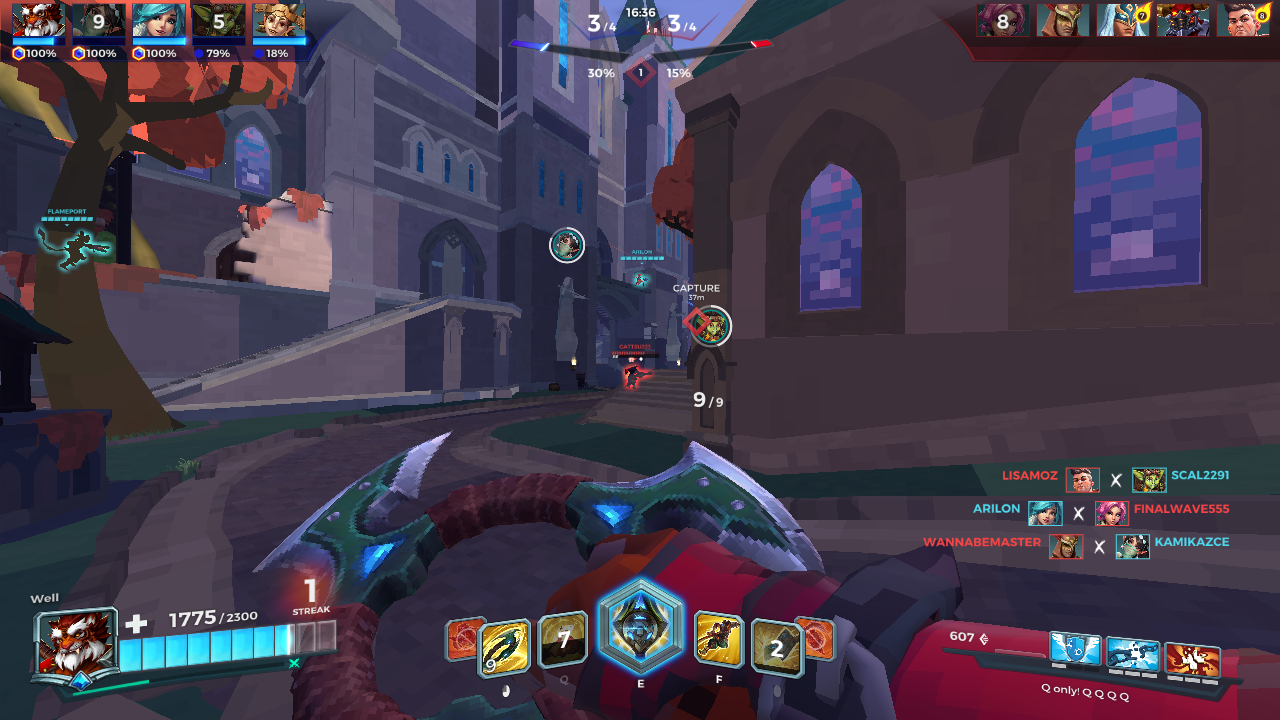model: (623, 361, 652, 396)
